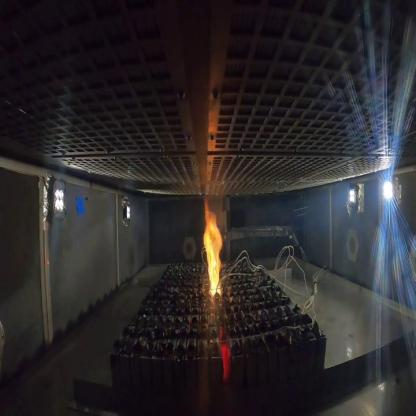fire: (200, 193, 226, 300)
